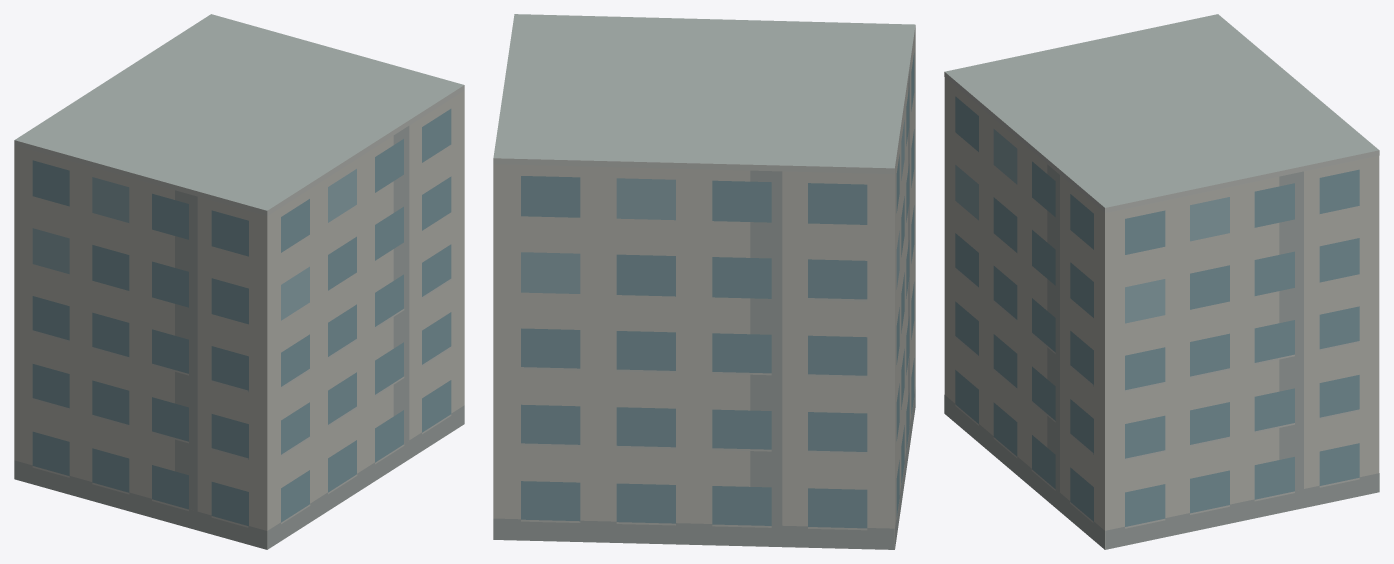
Rendered from survey-upis-33041340.glb.
The picture shows the model from 3 angles, left to right: view 1: azimuth 30°, elevation 25°; view 2: azimuth 150°, elevation 25°; view 3: azimuth 270°, elevation 25°; orthographic projection. The views are drawn at different scales.
Visible parts, largest first — view 1: survey-upis-33041340.tmp; view 2: survey-upis-33041340.tmp; view 3: survey-upis-33041340.tmp.
Part boxes in pixels (x1=…): survey-upis-33041340.tmp: x1=14, y1=14, x2=464, y2=549; survey-upis-33041340.tmp: x1=493, y1=14, x2=915, y2=549; survey-upis-33041340.tmp: x1=944, y1=14, x2=1379, y2=549.
Size of the model in its own units: 19.23 by 15.8 by 18.22.
